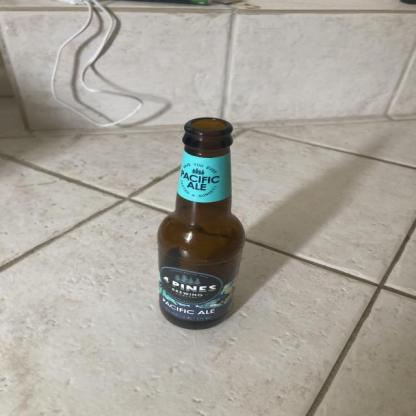Can: (157, 117, 246, 330)
